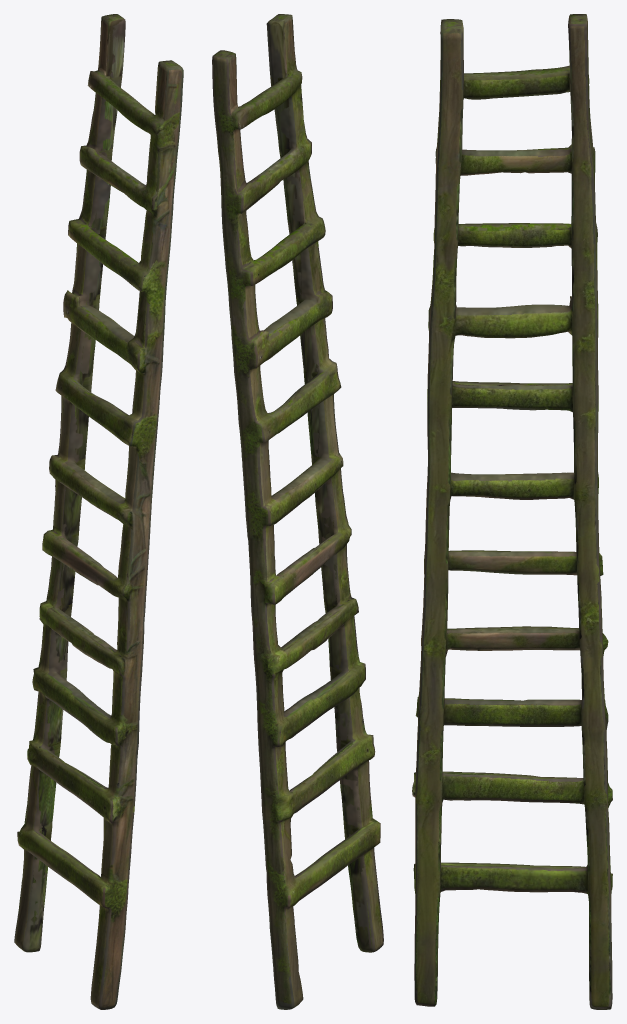
File: Ladder.fbx
The picture shows the model from 3 angles, left to right: view 1: azimuth 30°, elevation 25°; view 2: azimuth 150°, elevation 25°; view 3: azimuth 270°, elevation 25°; orthographic projection. The views are drawn at different scales.
Parts seen in each view (by area): view 1: input; view 2: input; view 3: input.
Boxes of the visible parts, left/top/right/bottom form: input: left=14, top=14, right=183, bottom=1009; input: left=212, top=14, right=383, bottom=1009; input: left=412, top=14, right=612, bottom=1009.
Bounding box in the file's own units: 21.81 × 199 × 35.25.
1 material, 1 textured.
